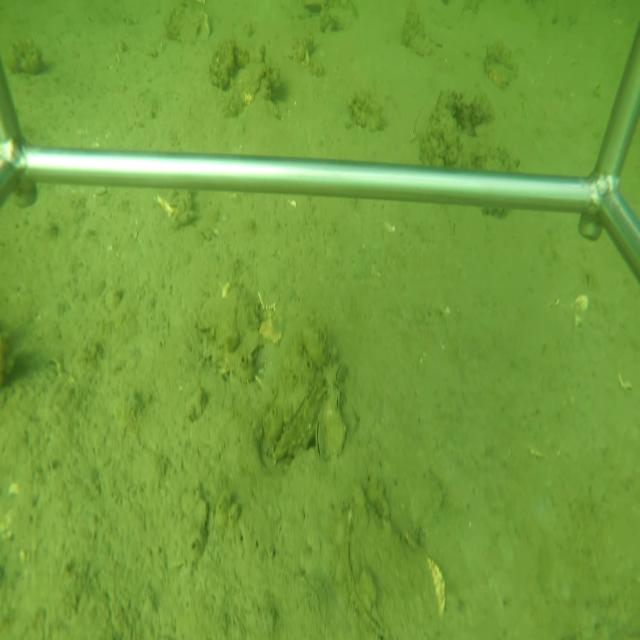Oyster-Closed: (341, 493, 443, 638), (261, 368, 327, 466), (313, 418, 327, 461), (331, 361, 349, 386), (331, 387, 342, 411)
